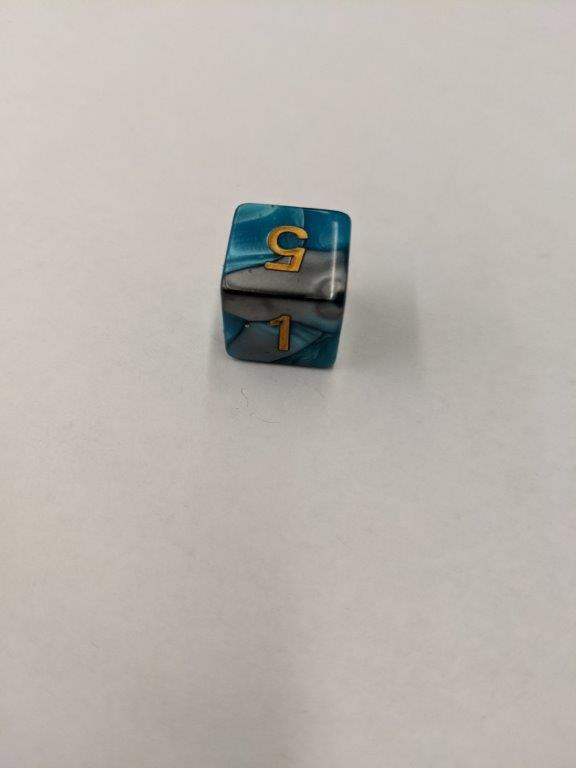d6-5: (220, 199, 351, 376)
